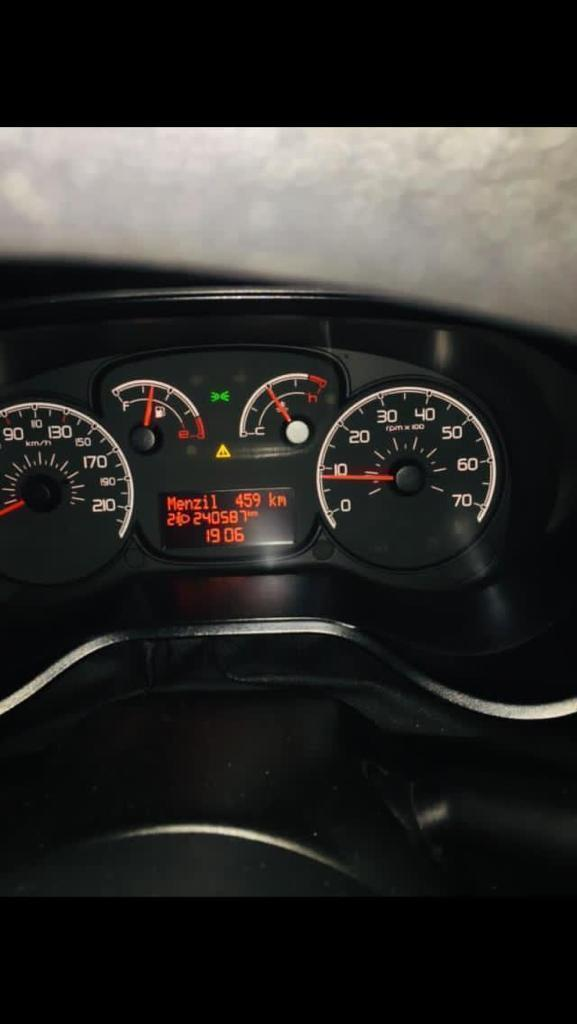0: (223, 527, 234, 543), (212, 511, 219, 525)
1: (205, 528, 209, 543)
2: (166, 513, 175, 526), (193, 511, 201, 524)
4: (235, 493, 243, 508), (202, 510, 211, 523)
5: (243, 492, 252, 507), (220, 510, 228, 524)
6: (234, 526, 245, 543)
7: (239, 509, 246, 523)
8: (229, 509, 238, 523)
9: (210, 528, 220, 543), (253, 491, 262, 507)
X: (267, 490, 276, 507), (277, 493, 287, 507), (166, 496, 176, 510), (210, 491, 218, 508), (202, 493, 209, 509), (193, 497, 201, 510), (184, 498, 193, 509), (176, 498, 184, 510), (252, 510, 259, 518), (247, 508, 251, 518)
odometer: (156, 486, 299, 549)
